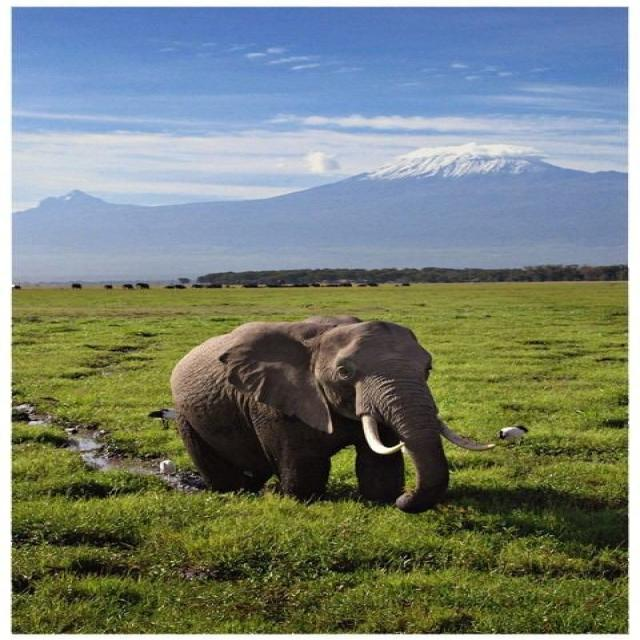Elephant: (130, 283, 526, 524)
